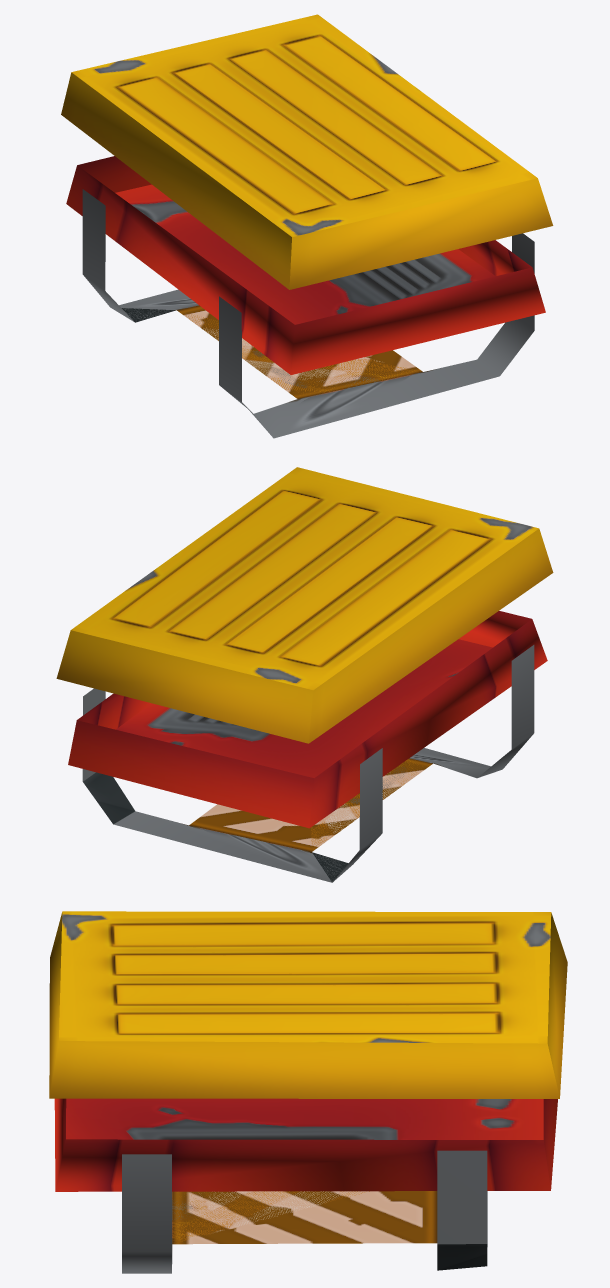
File: env_ruin_container_04_lod1.fbx
The picture shows the model from 3 angles, top to bottom: view 1: azimuth 30°, elevation 25°; view 2: azimuth 150°, elevation 25°; view 3: azimuth 270°, elevation 25°; orthographic projection. The views are drawn at different scales.
Visible parts, largest first — view 1: env_ruin_container_04_lod1; view 2: env_ruin_container_04_lod1; view 3: env_ruin_container_04_lod1.
Part boxes in pixels (x1=…): env_ruin_container_04_lod1: x1=61, y1=14, x2=553, y2=438; env_ruin_container_04_lod1: x1=56, y1=467, x2=553, y2=882; env_ruin_container_04_lod1: x1=49, y1=911, x2=567, y2=1273.
Bounding box in the file's own units: 21.14 × 14.27 × 30.67.
